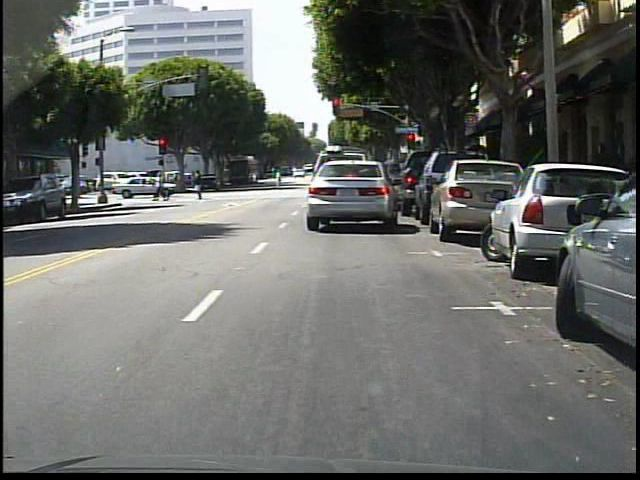person: (155, 174, 170, 203), (193, 171, 208, 200), (274, 169, 283, 190)
